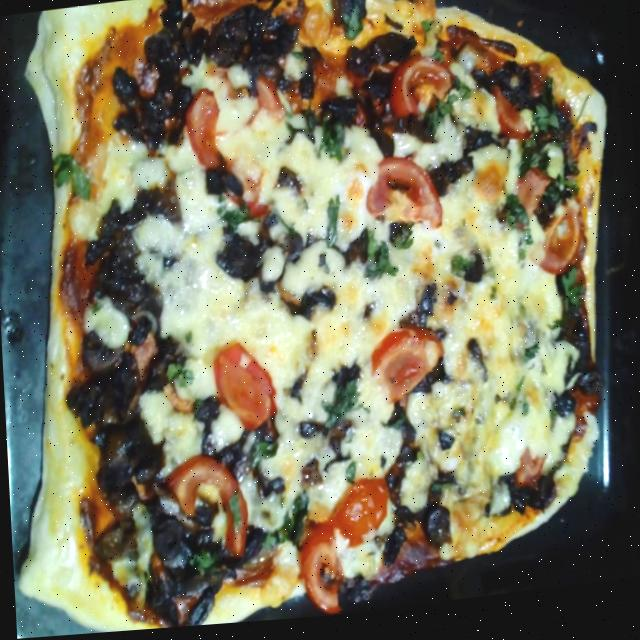black_olives: (215, 236, 258, 290), (143, 342, 184, 398), (85, 329, 118, 381), (298, 286, 336, 329), (206, 163, 242, 206), (421, 512, 451, 561), (322, 96, 357, 136), (112, 67, 140, 115), (70, 389, 100, 433), (183, 592, 216, 629), (108, 263, 136, 302), (550, 396, 576, 436), (126, 315, 152, 353), (158, 3, 184, 34), (146, 40, 170, 73), (418, 289, 438, 328), (576, 378, 602, 406)
pizza: (0, 0, 629, 640)
tomatoes: (165, 453, 252, 568), (362, 156, 444, 246), (368, 329, 446, 415), (210, 340, 278, 438), (330, 481, 388, 556), (296, 527, 341, 623), (529, 206, 583, 286), (386, 63, 453, 126), (185, 90, 222, 176), (490, 93, 529, 155), (510, 175, 552, 230), (510, 458, 546, 501), (570, 394, 602, 430)
